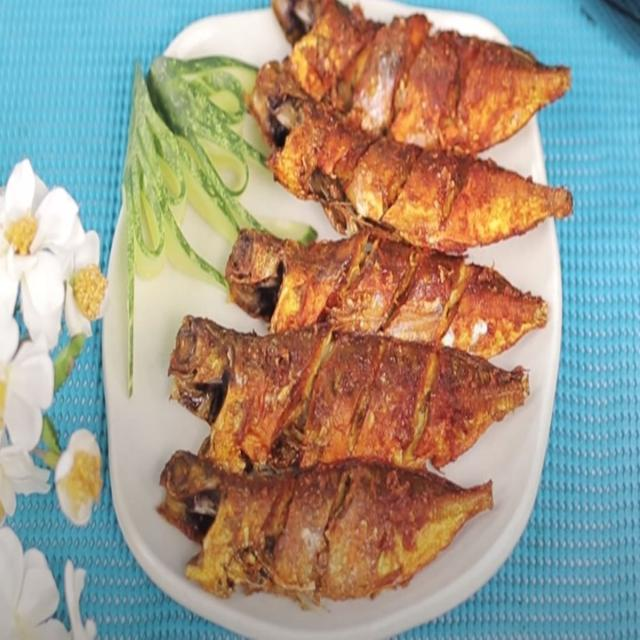ca chien: (158, 0, 572, 601)
